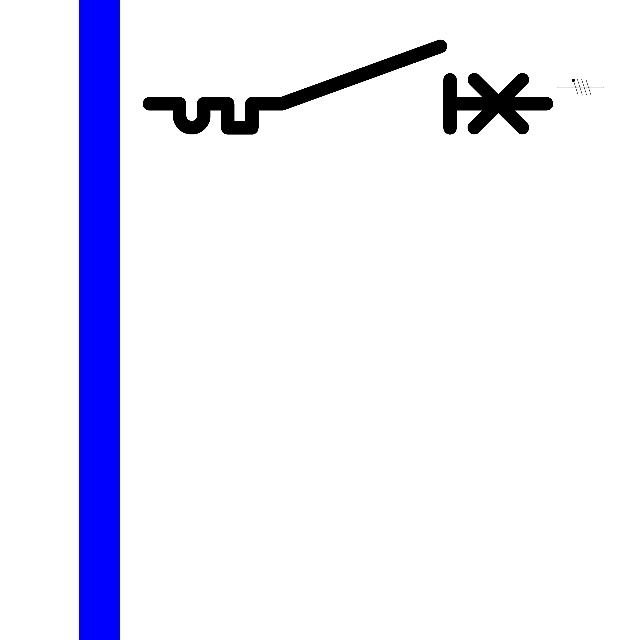interruptor_termomagnetico: (139, 36, 556, 138)
